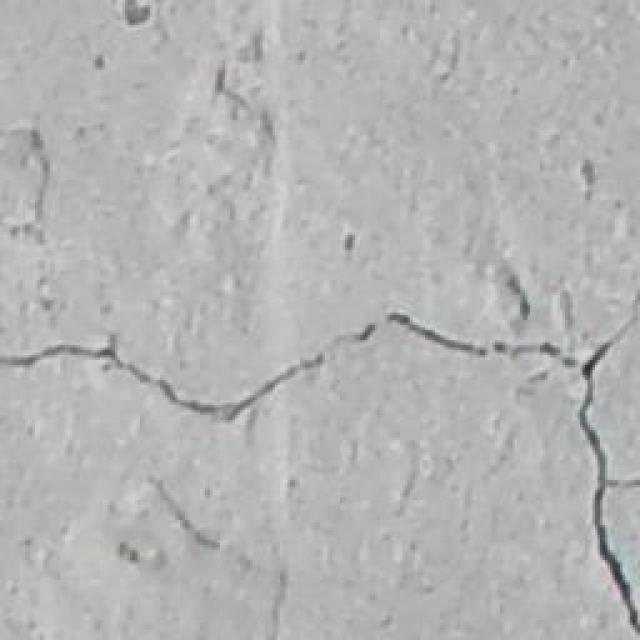concrete-crack: (0, 302, 640, 633)
